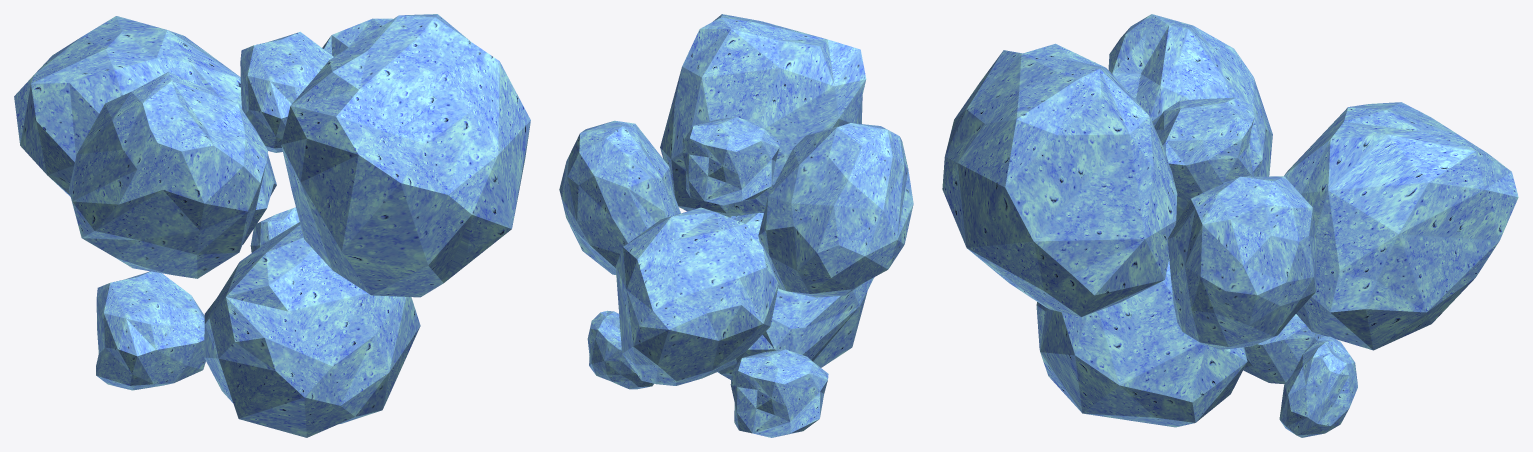
The model's file is ui_asteroid_big.fbx.
3 views of the same model, side by side, from view 1: azimuth 30°, elevation 25°; view 2: azimuth 150°, elevation 25°; view 3: azimuth 270°, elevation 25° (orthographic). The views are drawn at different scales.
Visible parts, largest first — view 1: mesh_node; view 2: mesh_node; view 3: mesh_node.
Boxes of the visible parts, bbox=[...] form: mesh_node: bbox=[14, 14, 530, 437]; mesh_node: bbox=[559, 14, 913, 437]; mesh_node: bbox=[942, 14, 1518, 437].
Bounding box in the file's own units: 0.6518 × 0.6393 × 0.8599.
1 material, 1 textured.
